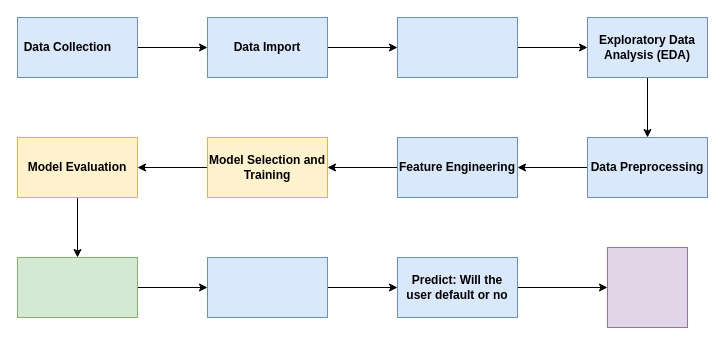
The diagram is 725 pixels wide and 345 high, and some of its shapes have lost their labels. Each missing label, with the centre of its shape:
Acquire User Input: the point at 267,287
Data Cleaning: the point at 457,47
Deploy Model: the point at 77,287
Predict Default Probability: the point at 647,287
